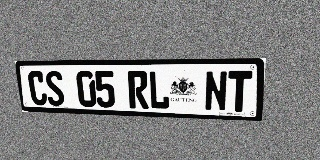0: (76, 71, 97, 107)
5: (94, 71, 116, 108)
C: (27, 71, 48, 106)
L: (148, 71, 170, 110)
N: (204, 71, 228, 111)
R: (127, 71, 149, 109)
S: (44, 71, 65, 106)
T: (227, 71, 252, 112)
